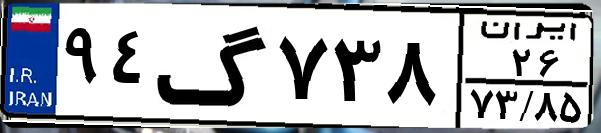2: (508, 27, 537, 80)
3: (330, 28, 385, 110), (495, 70, 520, 125)
4: (110, 28, 156, 98)
5: (560, 70, 590, 125)
6: (537, 27, 568, 80)
7: (270, 28, 330, 110), (470, 70, 495, 125)
8: (385, 28, 445, 110), (535, 70, 560, 125)
9: (57, 26, 110, 100)
گ: (156, 12, 270, 120)
